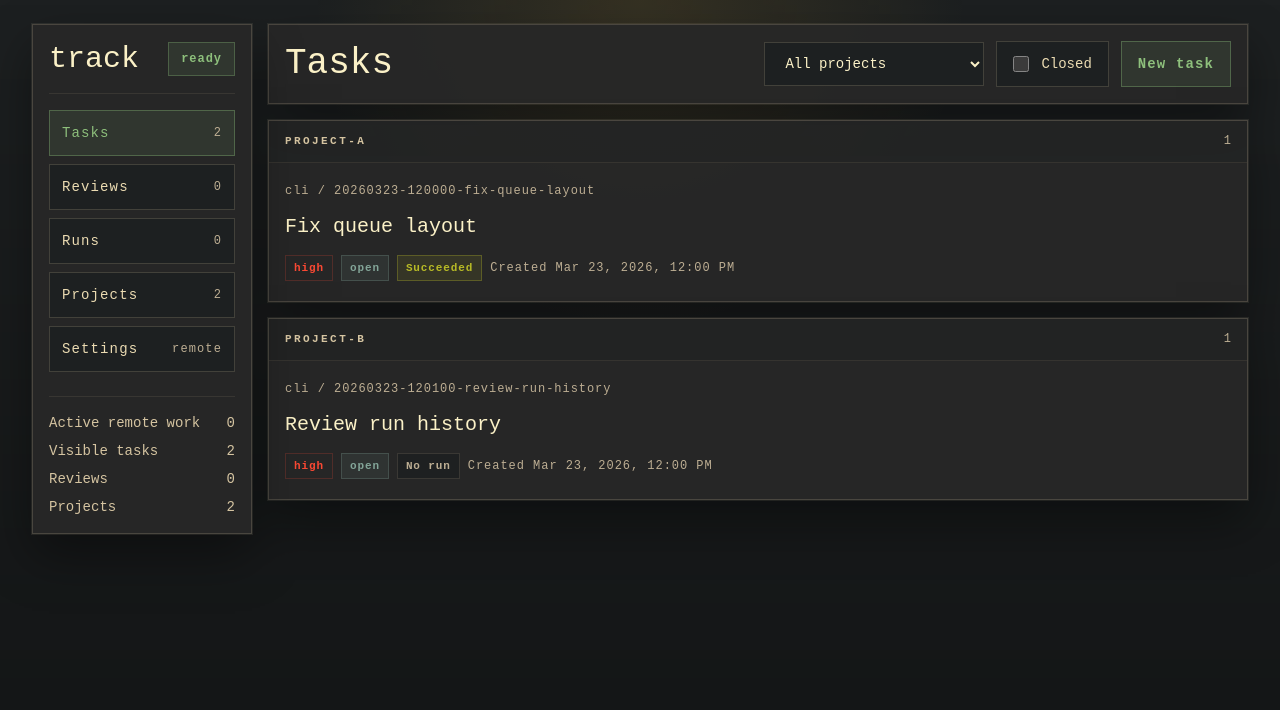
it: App shell › groups tasks by project and opens the task drawer from the queue
Click the button that starts with "cli / 20260323-120000-fix-queue-layout" at (440, 190), box [269, 162, 1247, 301]
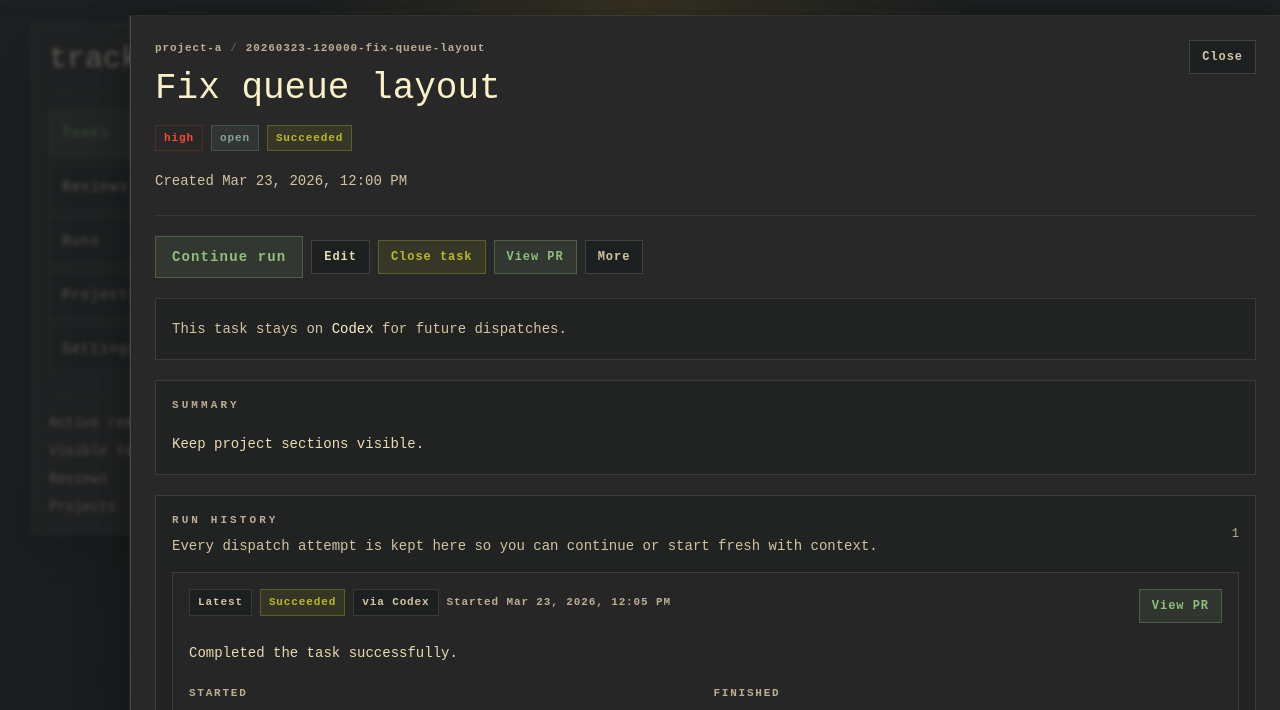
Now the element with test id "task-drawer" shows "Fix queue layout", box [155, 68, 501, 108]
Now the text with test id "run-latest-badge" reads "Latest", box [198, 596, 243, 608]
Now the button with test id "drawer-primary-action" reads "Continue run", box [155, 236, 303, 278]
